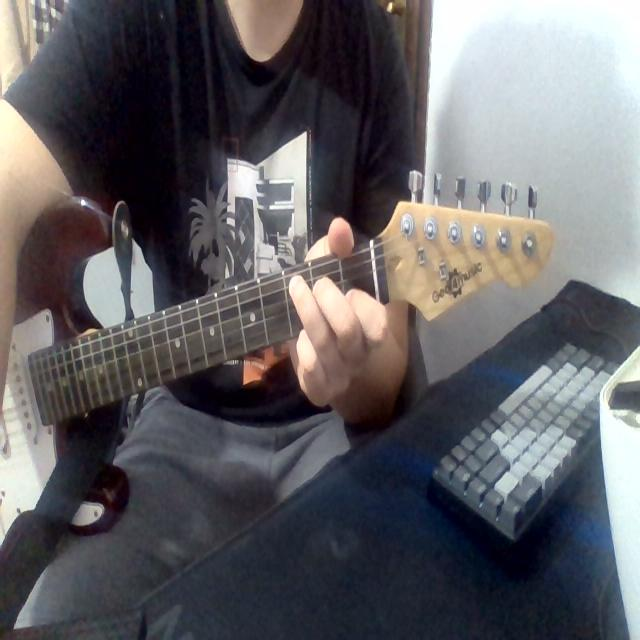Chord: (273, 261, 413, 371)
